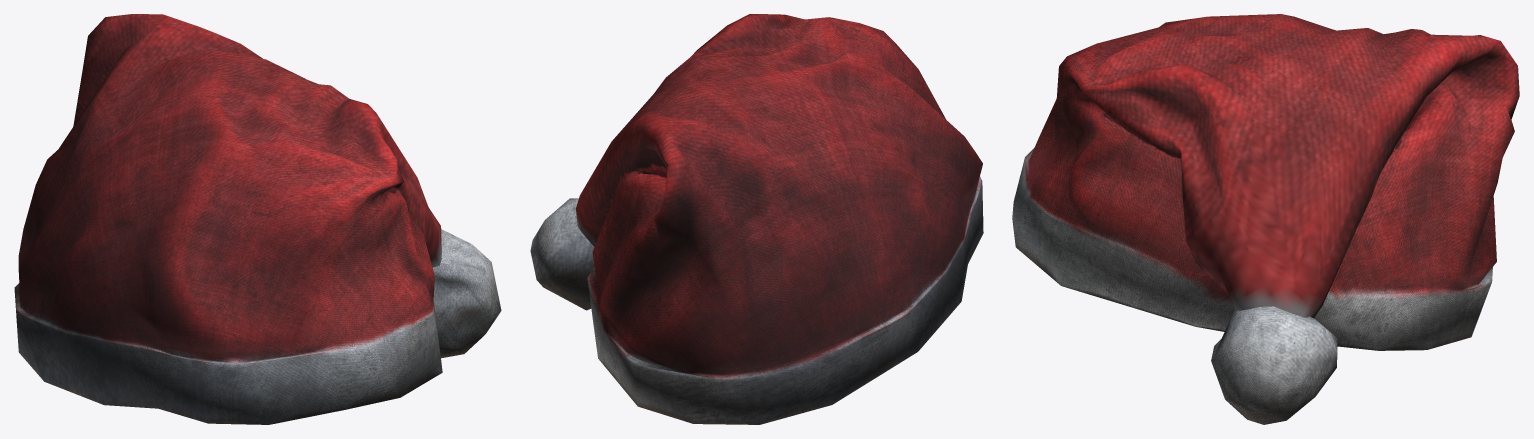
File: Hat.fbx
3 renders of one model, left to right at view 1: azimuth 30°, elevation 25°; view 2: azimuth 150°, elevation 25°; view 3: azimuth 270°, elevation 25°, orthographic. The views are drawn at different scales.
Parts seen in each view (by area): view 1: Hat; view 2: Hat; view 3: Hat.
Boxes of the visible parts, box(x1,y1,x2,y2) form: Hat: box(14, 14, 501, 424); Hat: box(530, 14, 983, 424); Hat: box(1012, 14, 1519, 424).
Bounding box in the file's own units: 23.7 × 15.93 × 25.07.
